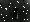person: (11, 9, 18, 21)
